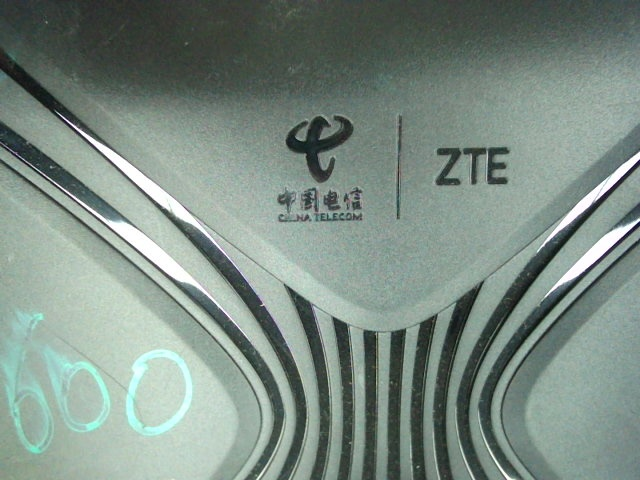AX_ZTEChinaTelecom: (255, 106, 523, 232)
